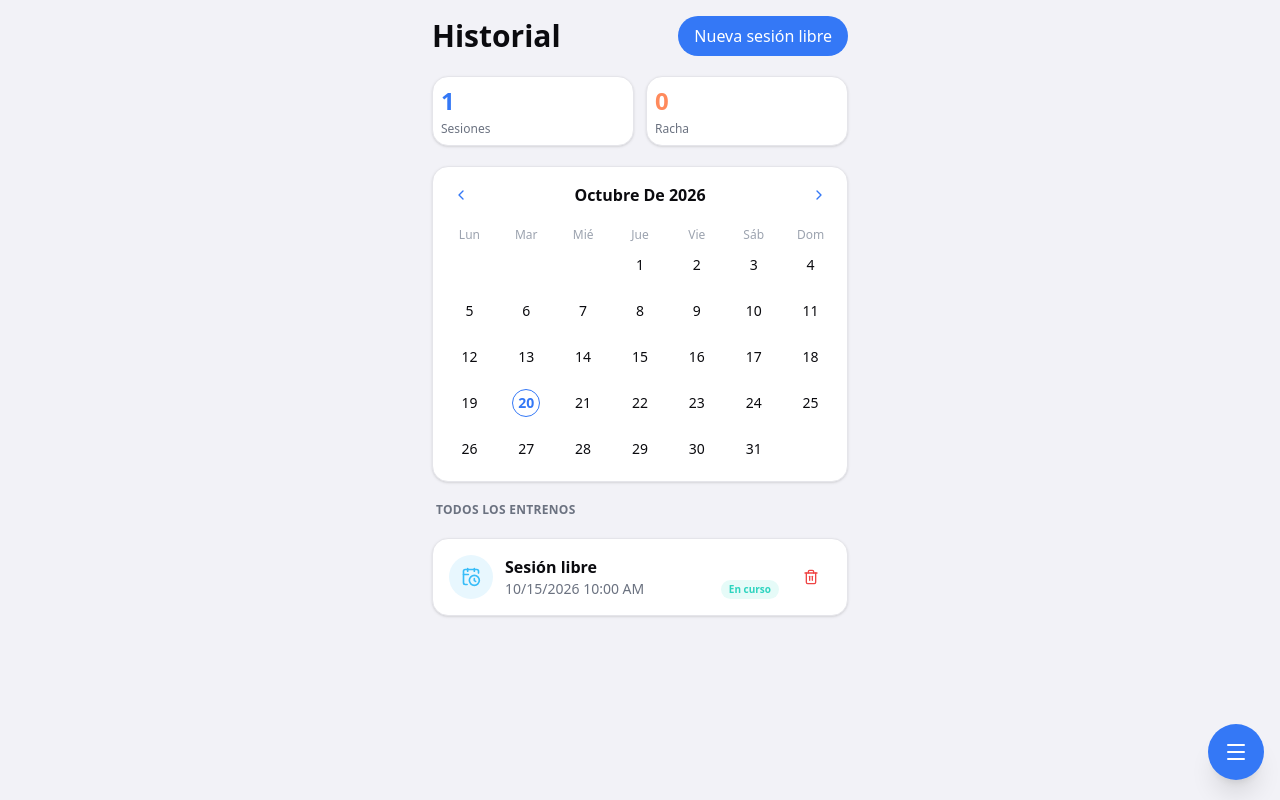
it: SessionsPage › borra una sesión desde el diálogo de confirmación
Check: the text "En curso" is shown, box [729,582,771,596]
Click the button named "Borrar sesión". click: [811, 577]
box: [791,557,831,597]
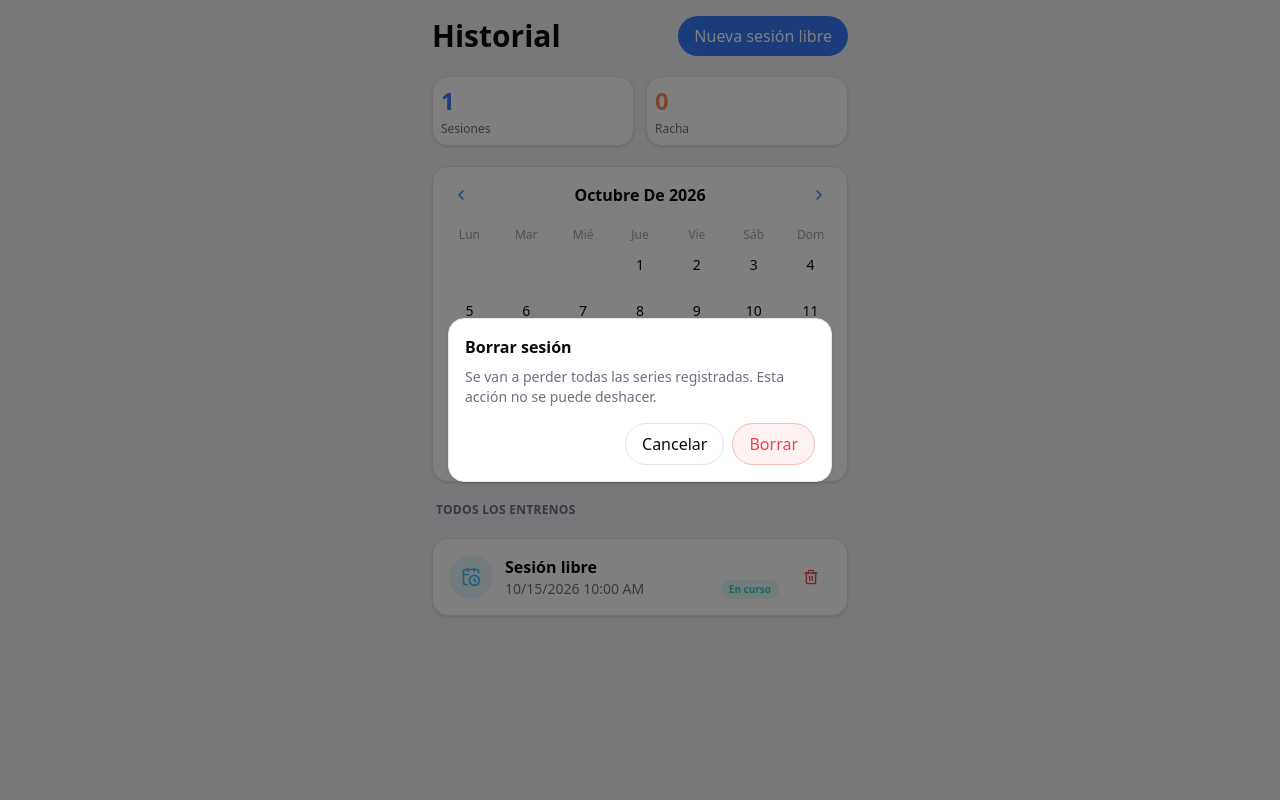
Check: the heading "Borrar sesión" is shown, box [465,336,572,358]
Click the button "Borrar". click: [774, 444]
box: [732,423,815,465]
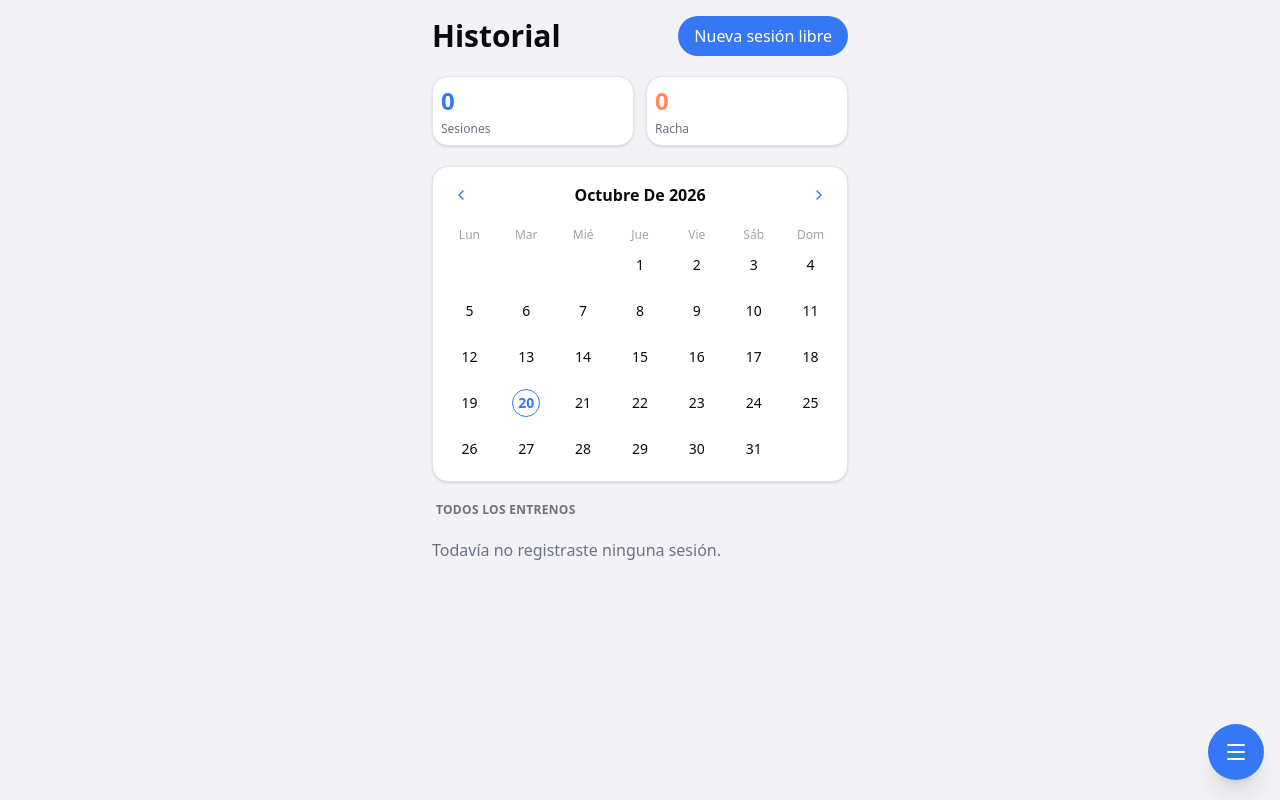
Check: the text "Todavía no registraste ninguna sesión." is shown, box [432,539,721,561]
